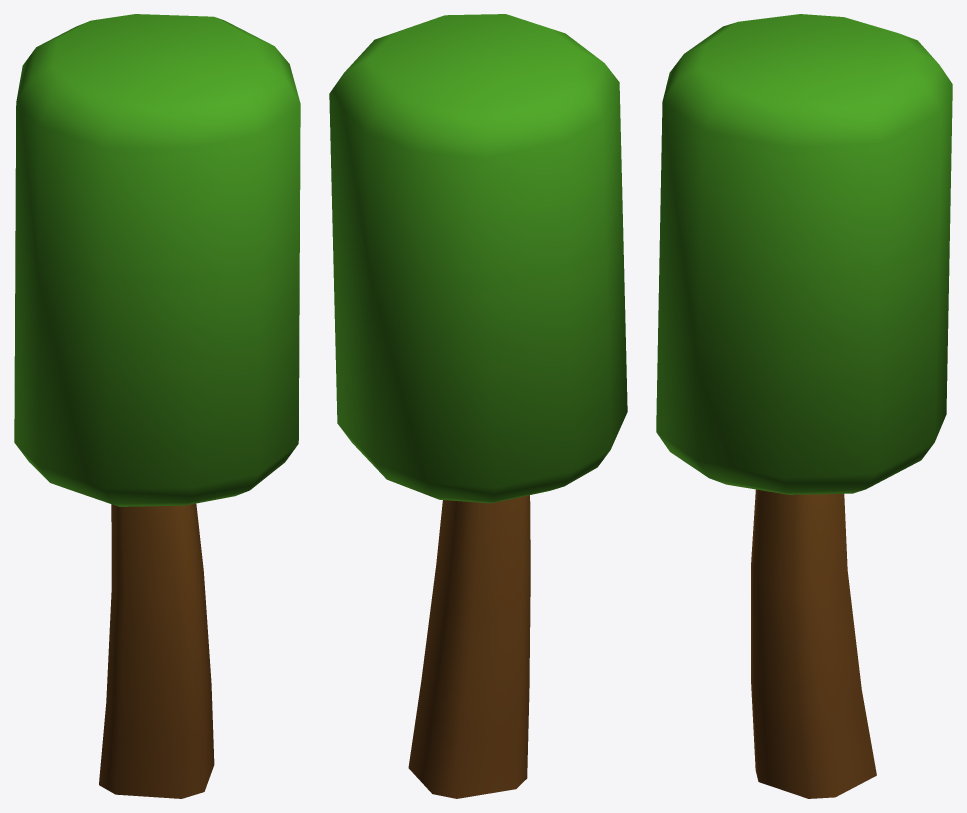
File: Tree_B_1.glb
The picture shows the model from 3 angles, left to right: view 1: azimuth 30°, elevation 25°; view 2: azimuth 150°, elevation 25°; view 3: azimuth 270°, elevation 25°; orthographic projection.
Visible parts, largest first — view 1: Tree_B_1; view 2: Tree_B_1; view 3: Tree_B_1.
Part boxes in pixels (left/top/right/bottom): Tree_B_1: left=14, top=14, right=300, bottom=798; Tree_B_1: left=329, top=14, right=627, bottom=798; Tree_B_1: left=656, top=14, right=952, bottom=798.
Size of the model in its own units: 1.27 by 3.48 by 1.3.
Materials: 1 (1 with a texture image).
